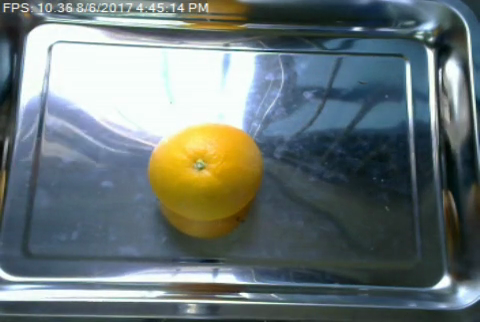Orange: (147, 121, 264, 221)
